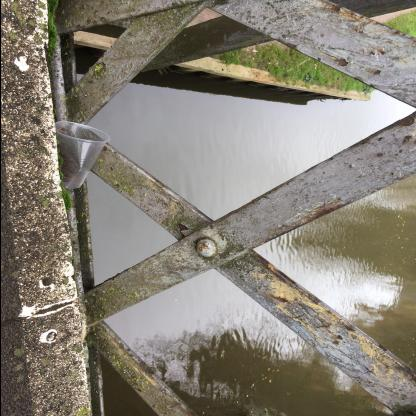plastik: (54, 121, 110, 190)
